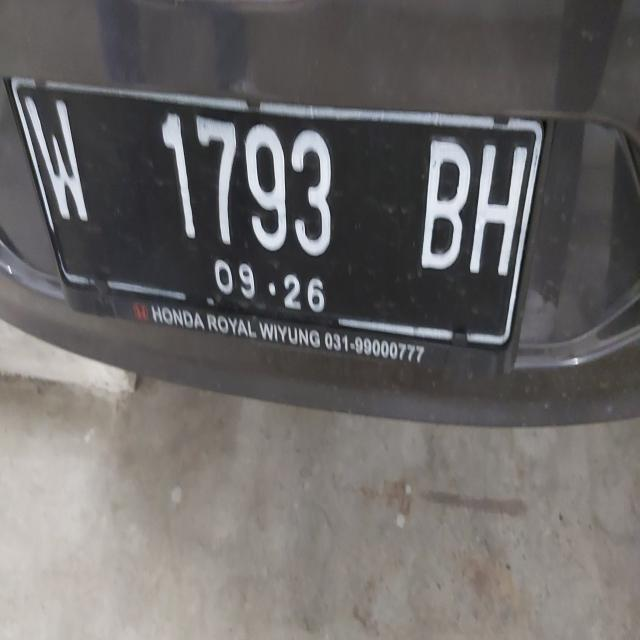1: (146, 95, 202, 256)
3: (288, 110, 340, 262)
7: (191, 100, 241, 254)
9: (237, 107, 296, 260)
B: (412, 110, 472, 288)
H: (468, 122, 528, 310)
W: (17, 76, 105, 249)
